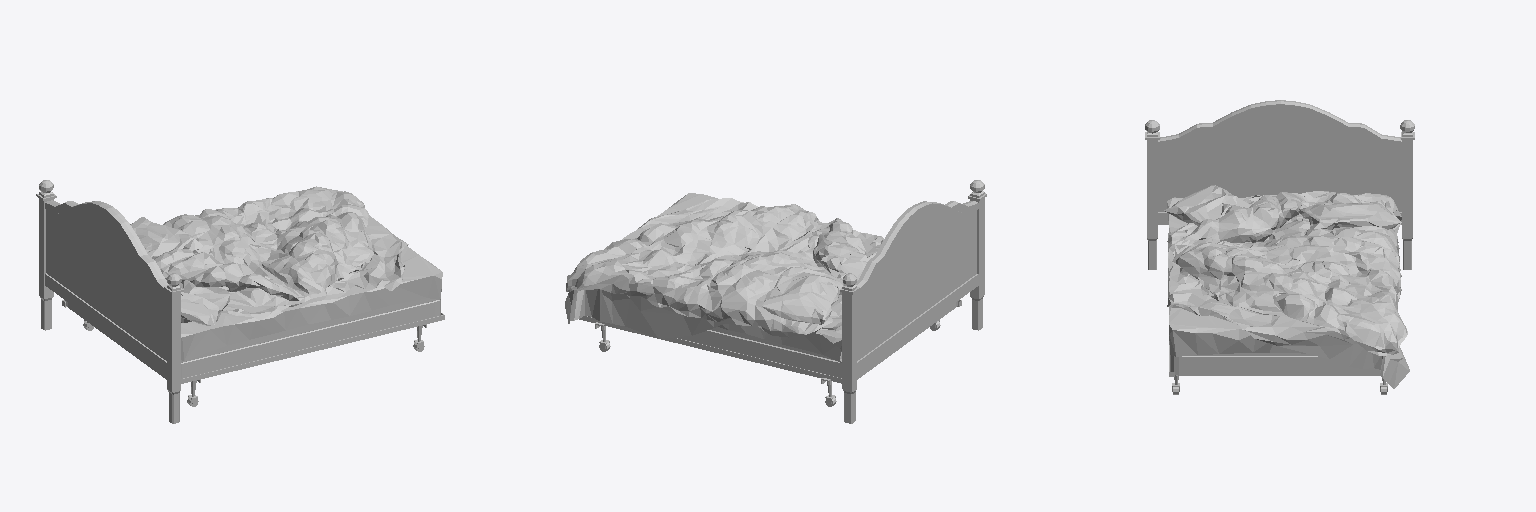
The model's file is bed.obj.
3 renders of one model, left to right at view 1: azimuth 30°, elevation 25°; view 2: azimuth 150°, elevation 25°; view 3: azimuth 270°, elevation 25°, orthographic.
Visible parts, largest first — view 1: Box007; view 2: Box007; view 3: Box007.
Boxes of the visible parts, <box> form: Box007: <box>36,180,444,423</box>; Box007: <box>565,180,986,423</box>; Box007: <box>1145,100,1414,394</box>.
Size of the model in its own units: 243 by 128 by 187.